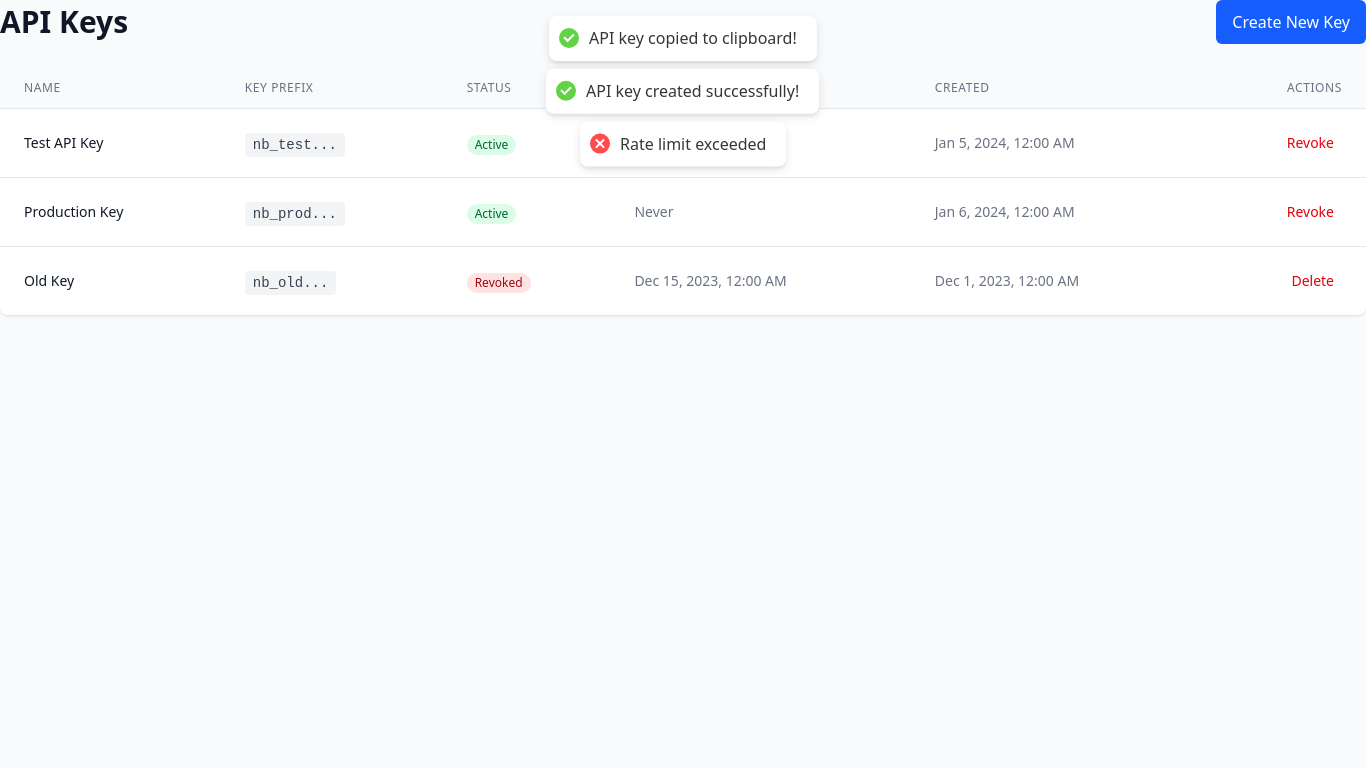
Test case: ApiKeys Page › Delete API Key › should open delete confirmation modal
# Click revoke button (on desktop view, check first revoke button)
What coordinates should you click on to do the following:
click the button "Revoke" in the row of "Test API Key"
I would click on:
 (1310, 143)
Its box is [1279,125,1342,161].
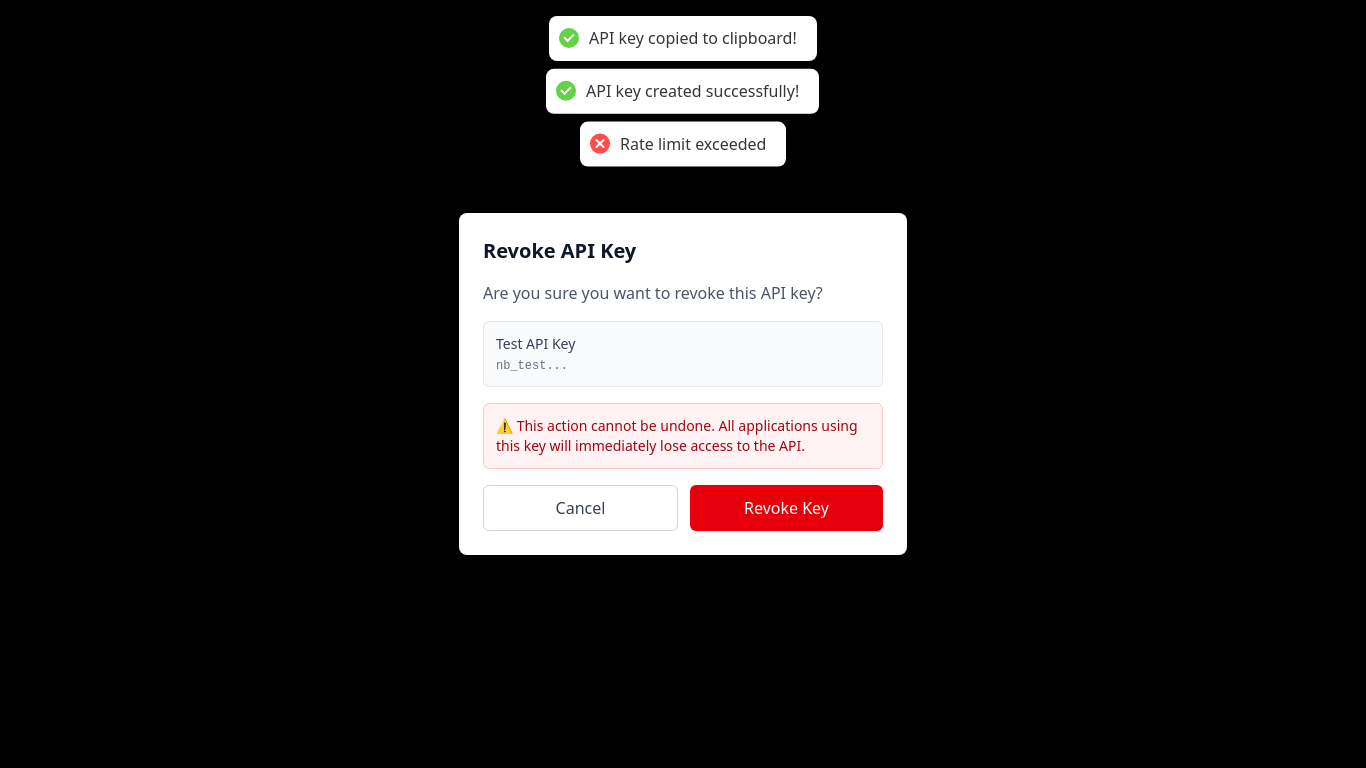
Expected: the heading "Revoke API Key" is shown, [483,237,636,264]
Expected: the text "Are you sure you want to revoke this API key?" is shown, [483,282,823,304]
